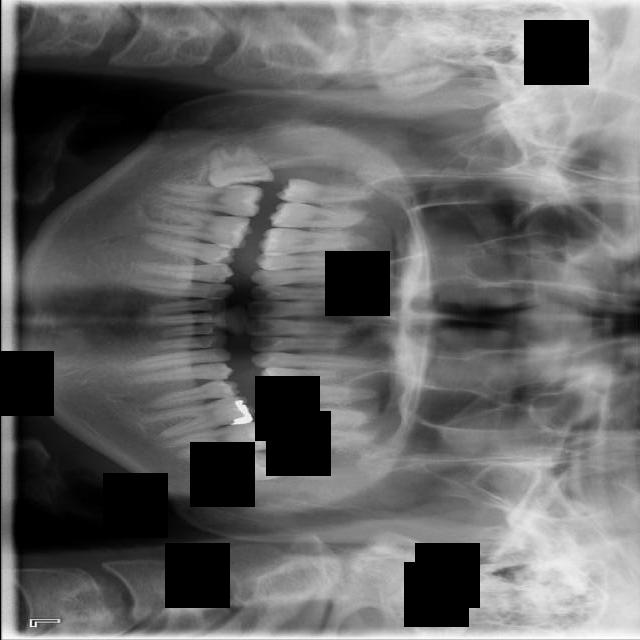3M ESPE Implant: (274, 176, 378, 212)
52: (205, 211, 256, 251), (205, 392, 257, 429), (195, 243, 235, 266), (249, 283, 298, 301), (248, 336, 297, 352)
73: (66, 606, 80, 610)
BioHorizons Implant: (271, 407, 380, 433)
BioLife Implant: (279, 428, 386, 456)
Biomet 3i Implant: (188, 445, 287, 494)
Blue Sky Bio Implant: (160, 419, 273, 462)
Caries: (267, 202, 381, 228)
Implant: (156, 181, 264, 219)
Keystone Dental Implant: (203, 138, 274, 191)
